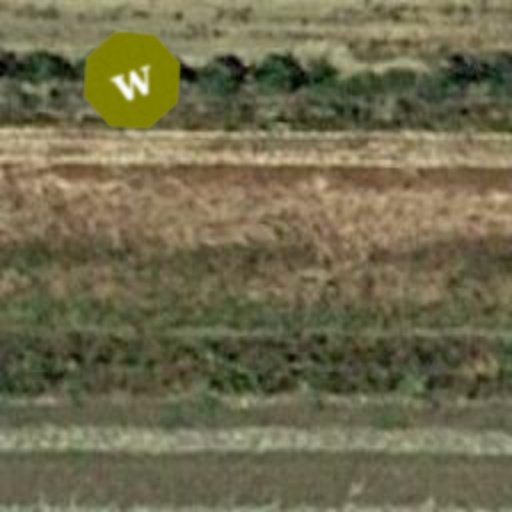octagon: (66, 14, 198, 146)
